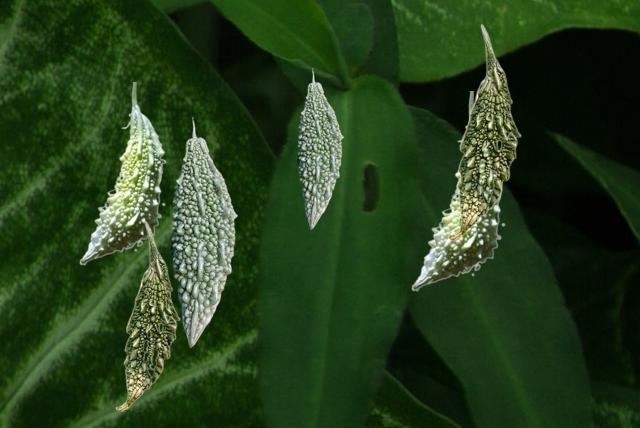ampalaya: (411, 91, 505, 290), (447, 23, 520, 239), (79, 82, 165, 264), (169, 117, 236, 346), (115, 220, 179, 410), (296, 68, 342, 228)
